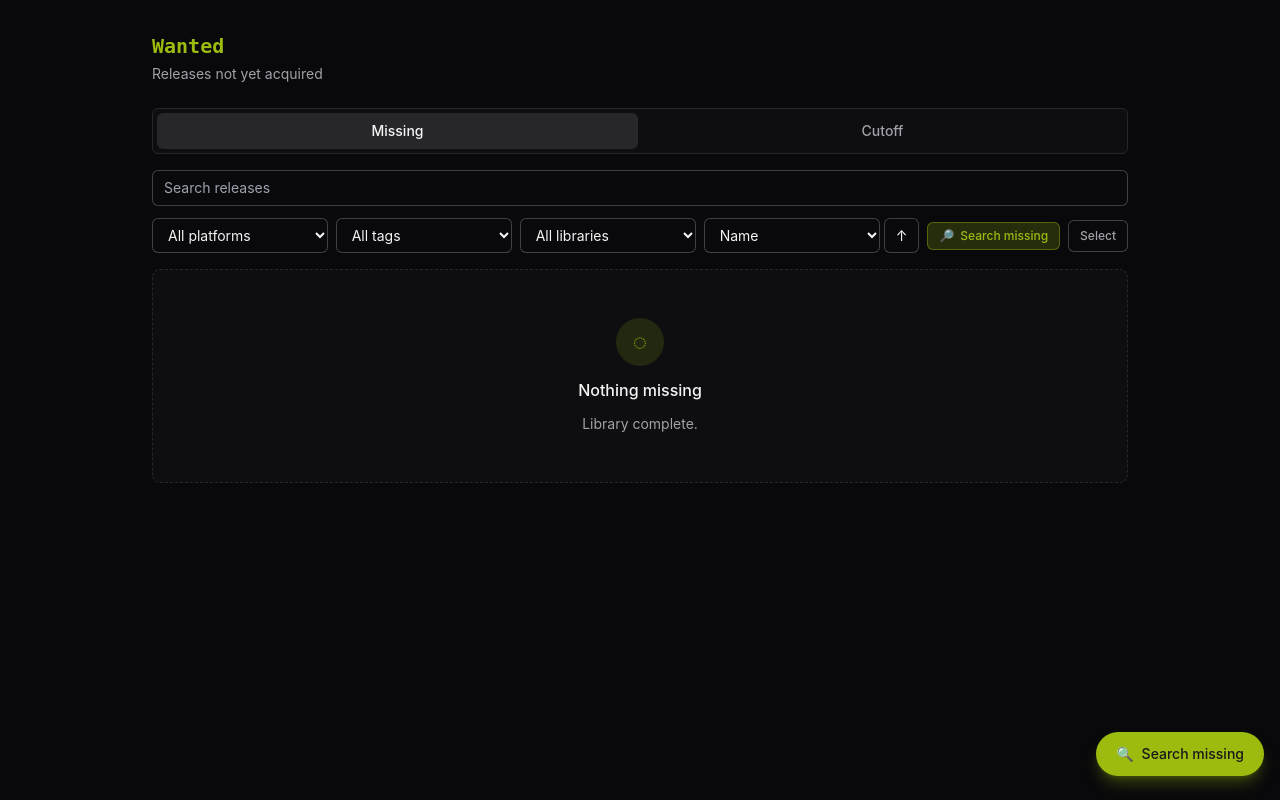
Test case: WantedPage › switches to the Cutoff tab and shows its empty-state on click
The width and height of the screenshot is (1280, 800).
Click the button "Cutoff".
click(882, 131)  # box x1=642 y1=113 x2=1123 y2=149
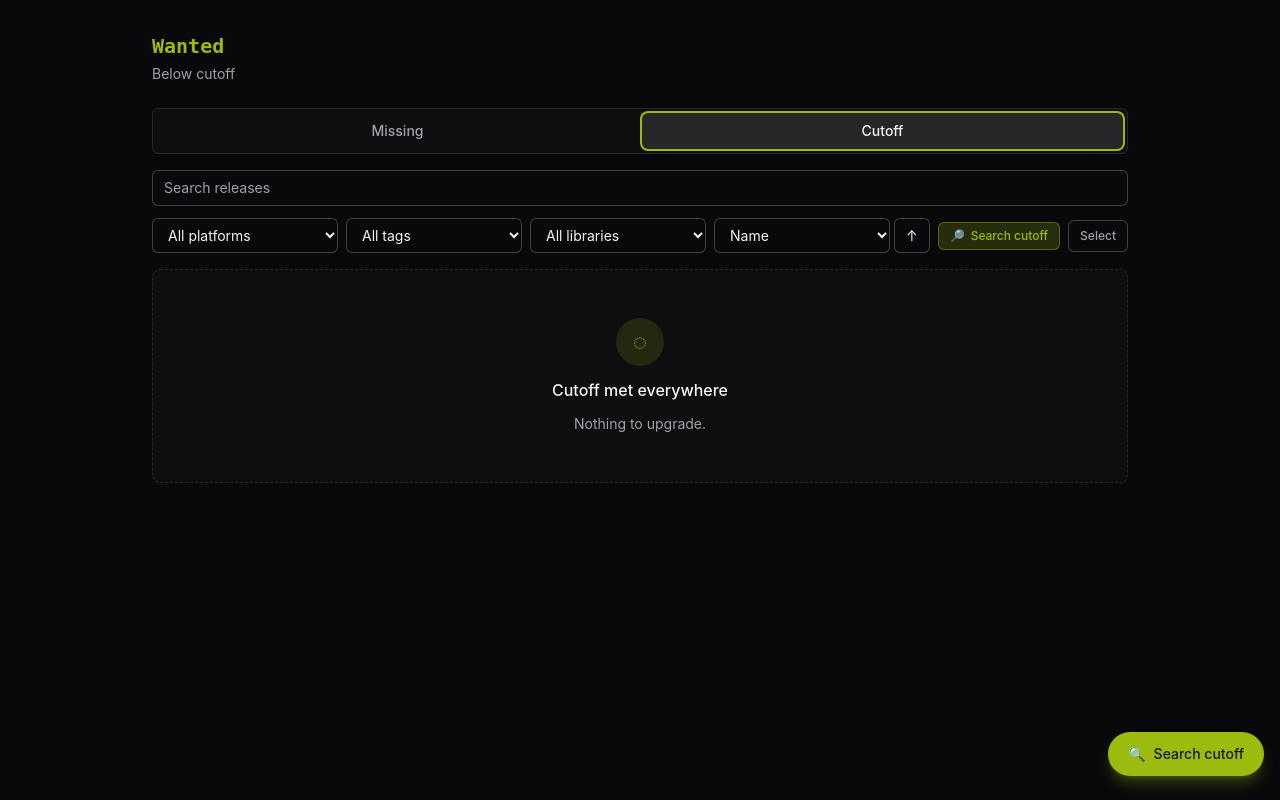
Now the heading "Cutoff met everywhere" is shown, box x1=552 y1=378 x2=728 y2=402
Now the heading "Nothing missing" is gone
